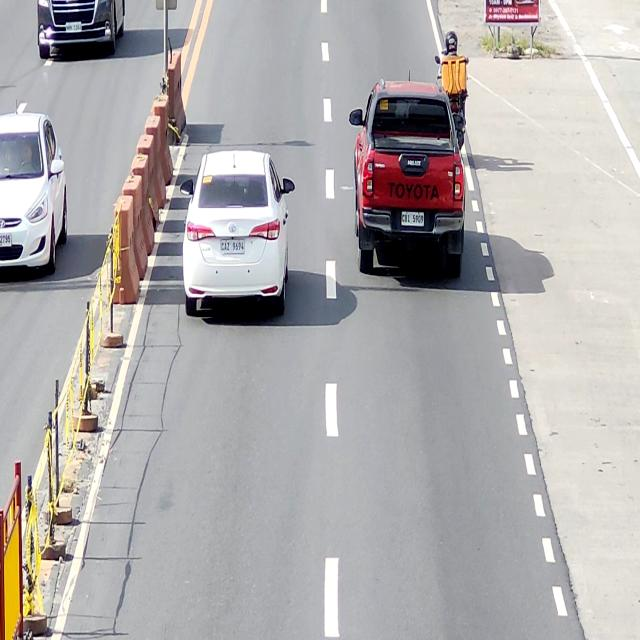Car: (348, 75, 466, 277), (180, 148, 294, 317), (0, 101, 68, 274), (37, 0, 125, 59)
License-Plate: (217, 234, 248, 260), (400, 209, 425, 227), (62, 19, 84, 37), (0, 230, 16, 247)
Motorcycle: (436, 26, 469, 157)
